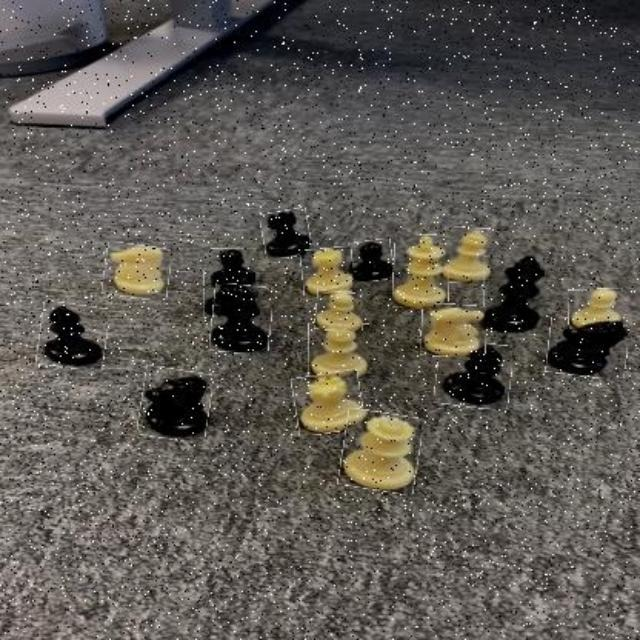black-bishop: (437, 341, 513, 408), (38, 303, 108, 369)
black-king: (483, 256, 546, 332)
black-knight: (139, 367, 211, 440), (547, 318, 627, 378)
black-pawn: (350, 239, 394, 282), (211, 247, 257, 288)
black-queen: (211, 285, 272, 354)
black-rook: (204, 271, 256, 319), (262, 211, 310, 259)
white-bishop: (308, 324, 370, 380), (443, 227, 493, 283)
white-king: (394, 234, 450, 309)
white-knight: (104, 244, 170, 300), (422, 306, 486, 358)
white-pawn: (569, 289, 624, 331), (315, 291, 363, 332)
white-queen: (340, 410, 421, 494)
white-rook: (293, 371, 363, 434), (301, 248, 353, 296)
